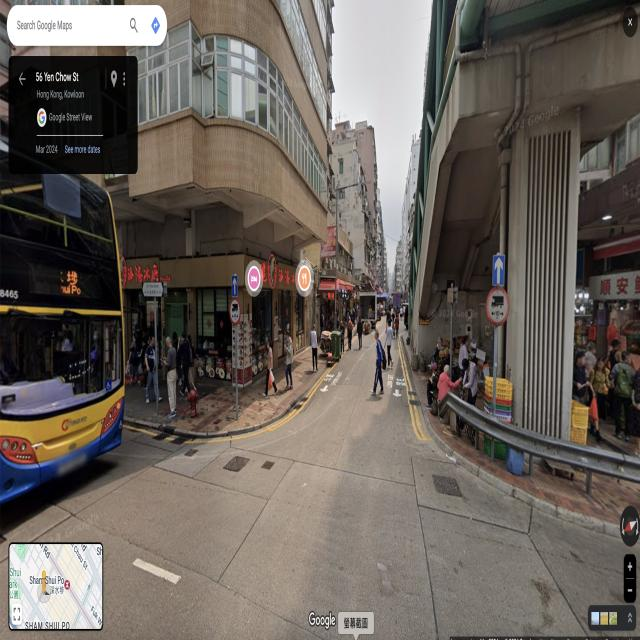Direction-Sign: (493, 255, 505, 284), (231, 275, 238, 297)
Order-Sign: (486, 287, 510, 327), (229, 298, 241, 325)
Street-Direction-Sign: (141, 282, 164, 298)
